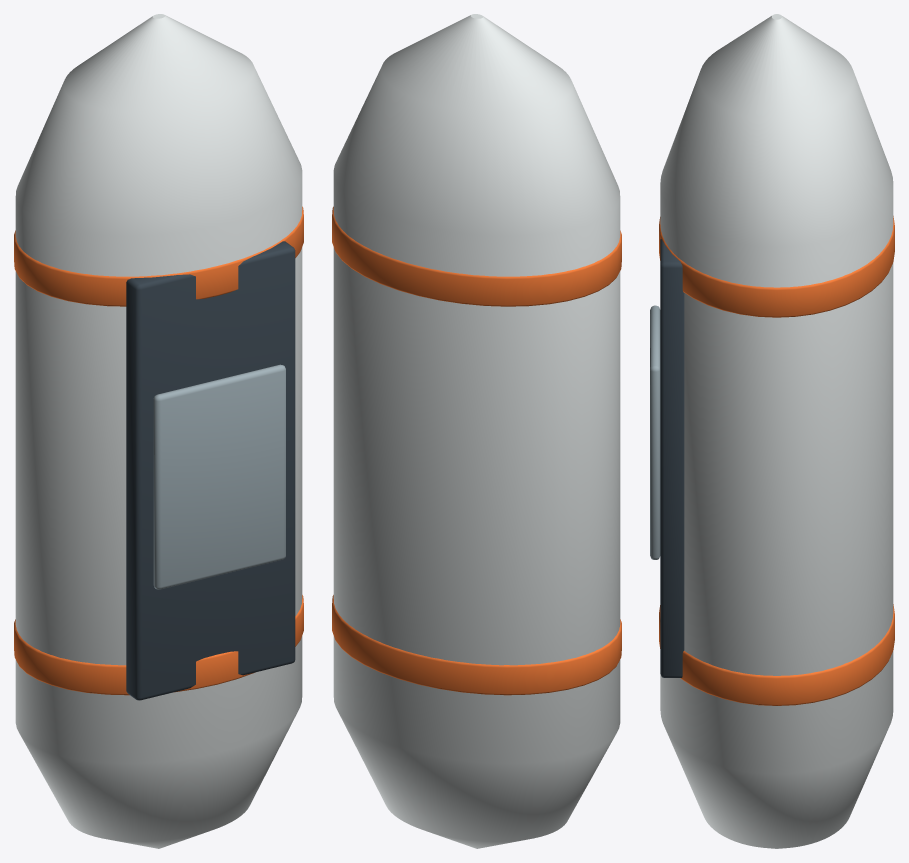
File: pontoon.glb
The picture shows the model from 3 angles, left to right: view 1: azimuth 30°, elevation 25°; view 2: azimuth 150°, elevation 25°; view 3: azimuth 270°, elevation 25°; orthographic projection.
Parts seen in each view (by area): view 1: Sealed displacement hull; view 2: Sealed displacement hull; view 3: Sealed displacement hull.
Boxes of the visible parts, x1,y1,x2,y2 form: Sealed displacement hull: (14,14,303,848); Sealed displacement hull: (332,14,621,848); Sealed displacement hull: (650,14,894,848).
Size of the model in its own units: 1 by 3 by 0.8.
